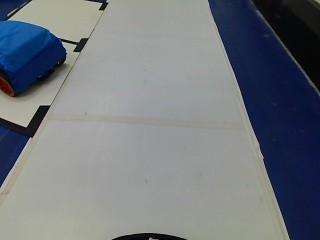car: (0, 17, 70, 95)
